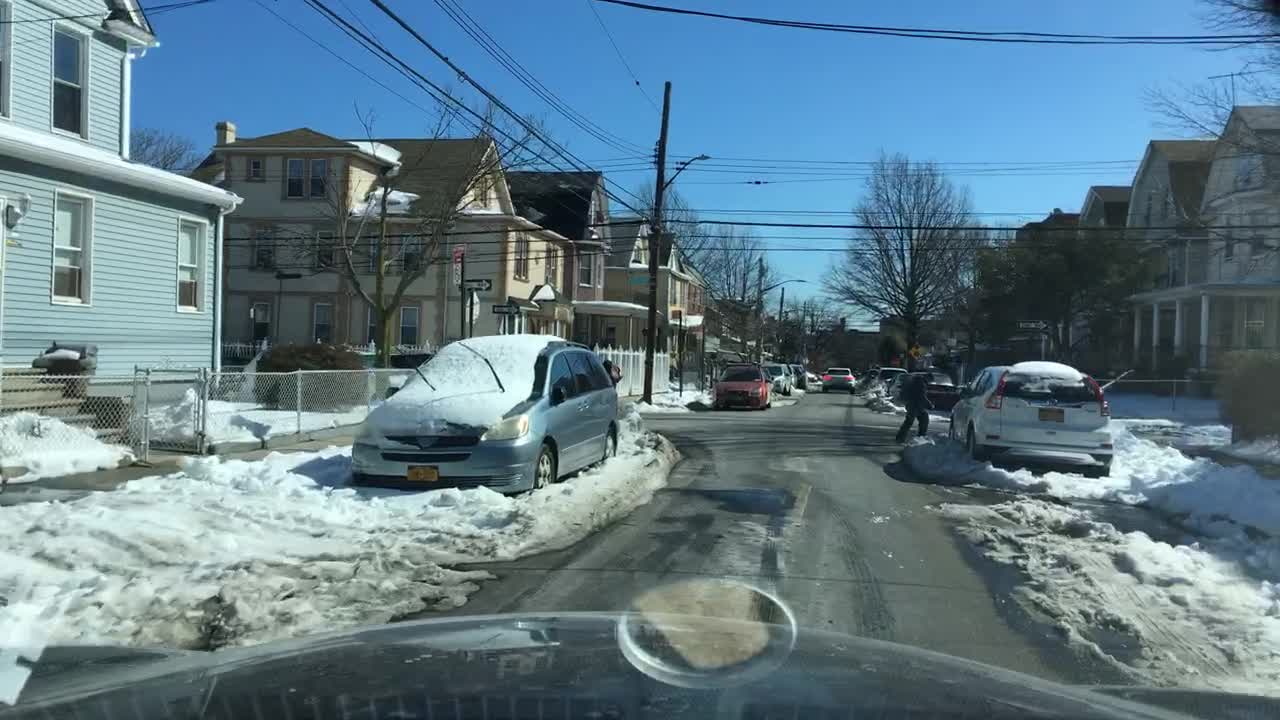car: (354, 332, 620, 497), (950, 363, 1116, 478), (719, 361, 776, 412)
person: (899, 367, 936, 446)
